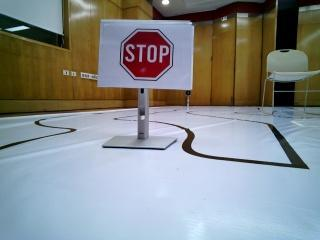stop: (111, 26, 183, 83)
